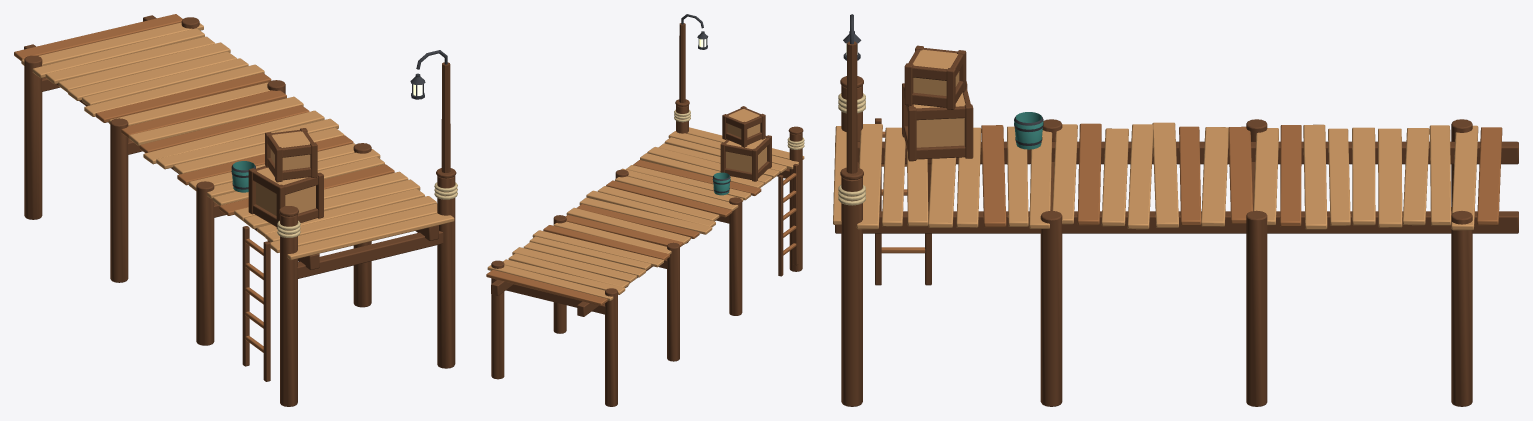
Rendered from Dock.fbx.
The picture shows the model from 3 angles, left to right: view 1: azimuth 30°, elevation 25°; view 2: azimuth 150°, elevation 25°; view 3: azimuth 270°, elevation 25°; orthographic projection. The views are drawn at different scales.
Visible parts, largest first — view 1: DockPart; view 2: DockPart; view 3: DockPart.
Boxes of the visible parts, x1,y1,x2,y2 form: DockPart: (14,14,457,406); DockPart: (486,14,804,406); DockPart: (833,14,1518,406).
Size of the model in its own units: 2.18 by 3.66 by 6.02.
